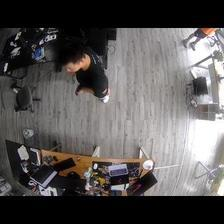normal: (58, 49, 111, 103)
